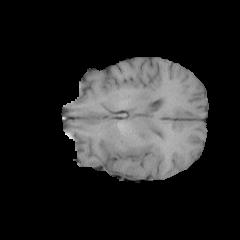glioma: (99, 128, 152, 171)
